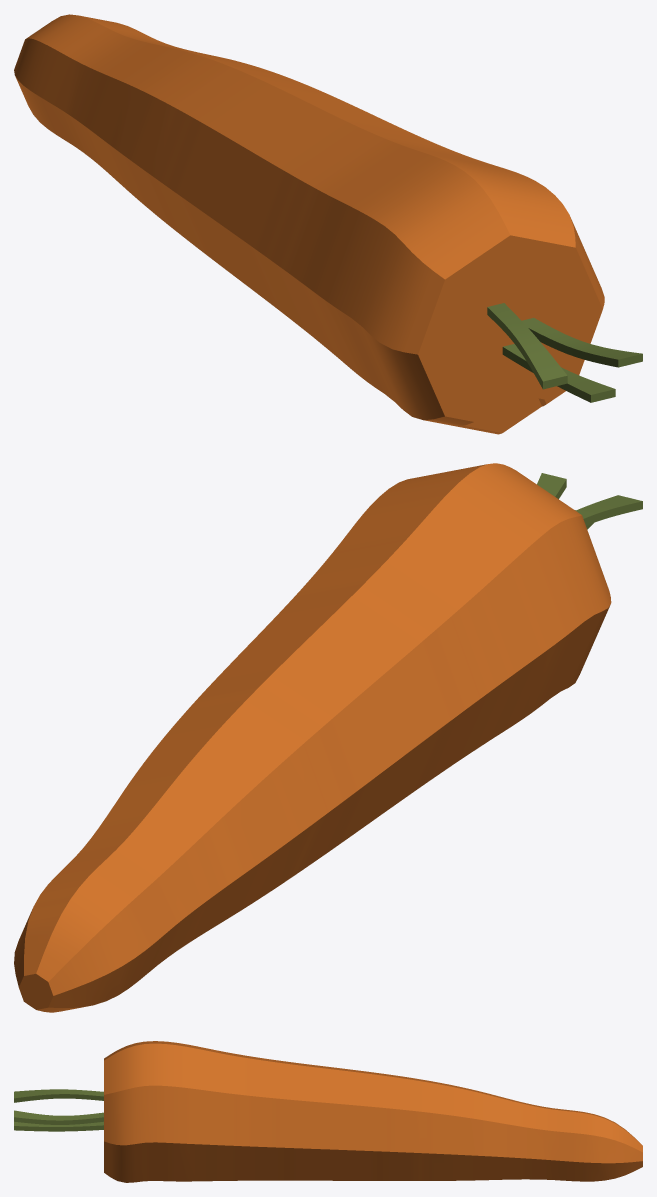
The model's file is simready-food_produce_freshCarrot_a06.glb.
The picture shows the model from 3 angles, top to bottom: view 1: azimuth 30°, elevation 25°; view 2: azimuth 150°, elevation 25°; view 3: azimuth 270°, elevation 25°; orthographic projection. The views are drawn at different scales.
Visible parts, largest first — view 1: root, stem, stem.002, stem.001; view 2: root, stem; view 3: root, stem, stem.002, stem.001.
Part boxes in pixels (x1,y1,x2,y2): root: [14, 14, 604, 434]; stem: [487, 303, 567, 389]; stem.002: [522, 318, 642, 367]; stem.001: [502, 344, 615, 402]; root: [14, 463, 611, 1012]; stem: [576, 495, 642, 525]; root: [104, 1041, 642, 1182]; stem: [14, 1089, 103, 1102]; stem.002: [14, 1110, 103, 1124]; stem.001: [14, 1121, 103, 1131].
Bounding box in the file's own units: 0.0331 × 0.0337 × 0.14.
